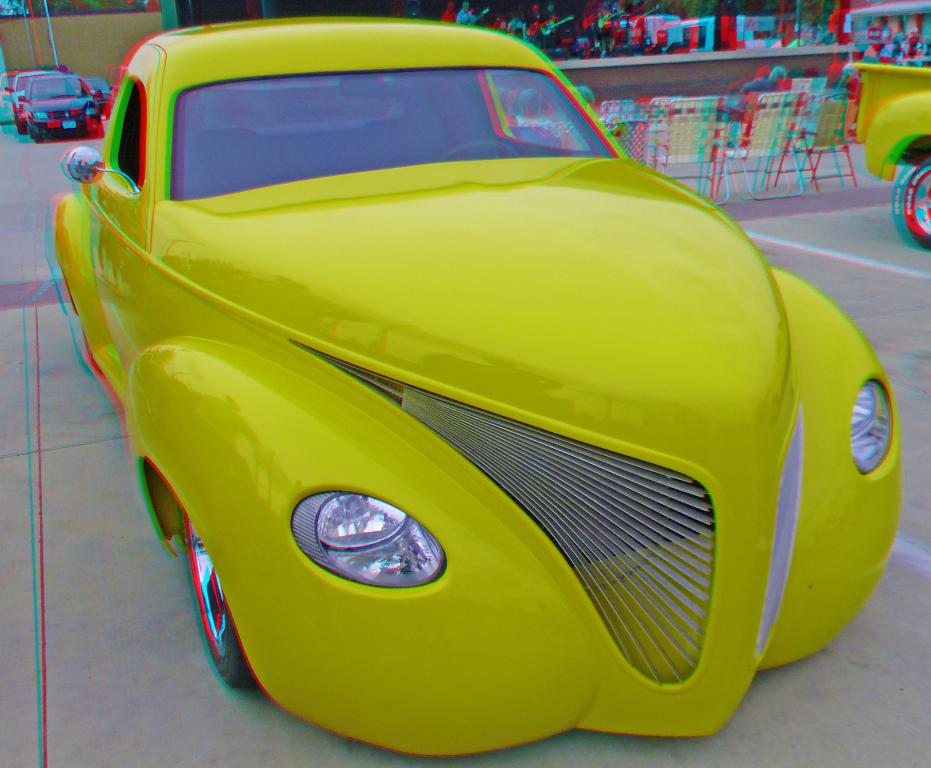Car: (49, 13, 901, 756), (18, 70, 103, 137), (5, 75, 87, 126), (77, 68, 119, 102)
